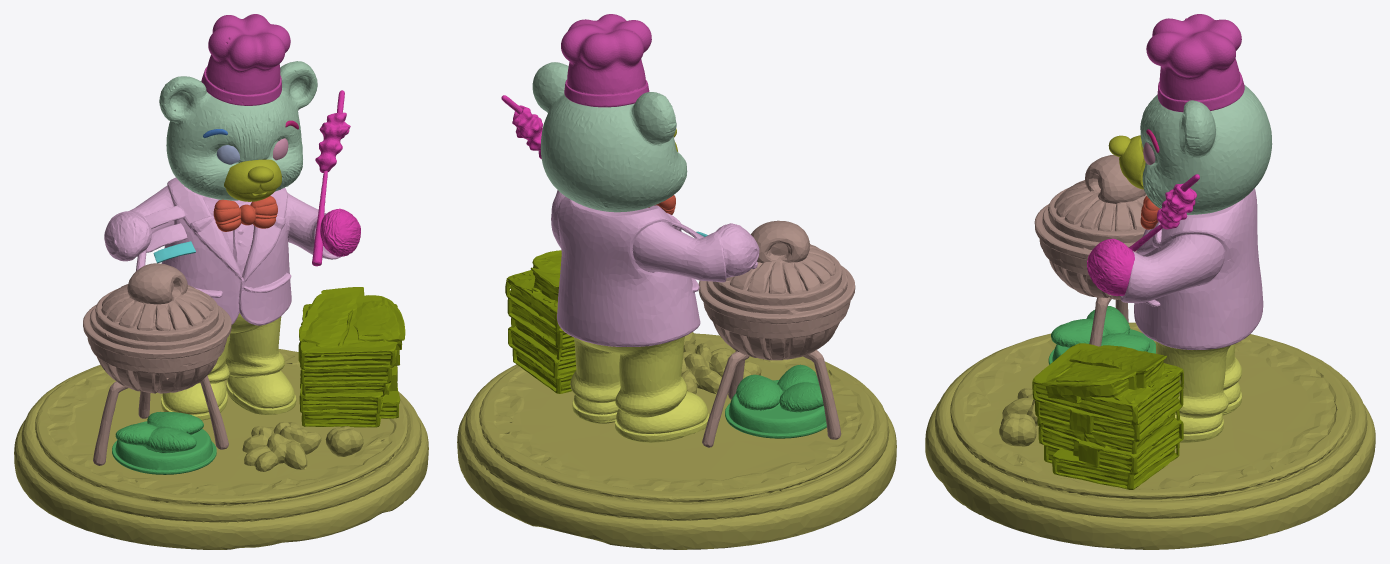
3 views of the same model, side by side, from view 1: azimuth 30°, elevation 25°; view 2: azimuth 150°, elevation 25°; view 3: azimuth 270°, elevation 25° (orthographic). The views are drawn at different scales.
Parts seen in each view (by area): view 1: world; view 2: world; view 3: world.
Part boxes in pixels (x1,y1,x2,y2): world: (14, 14, 428, 549); world: (457, 14, 896, 549); world: (925, 14, 1375, 549).
Size of the model in its own units: 1.84 by 2 by 1.8.
